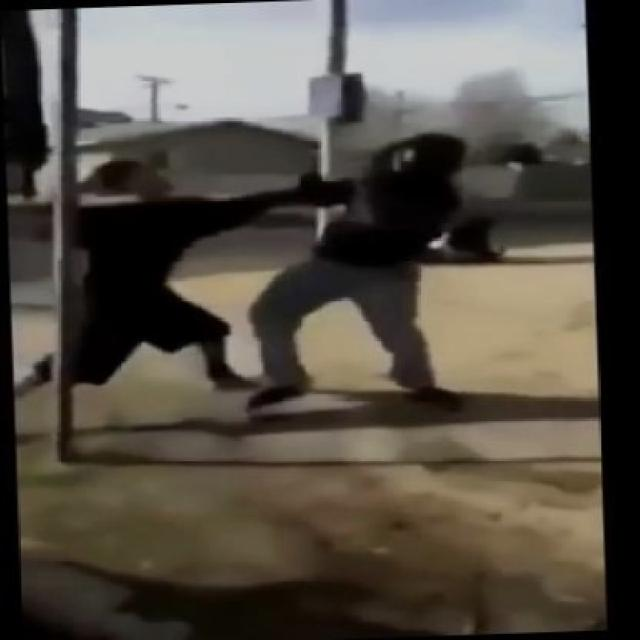fight: (12, 123, 521, 429)
